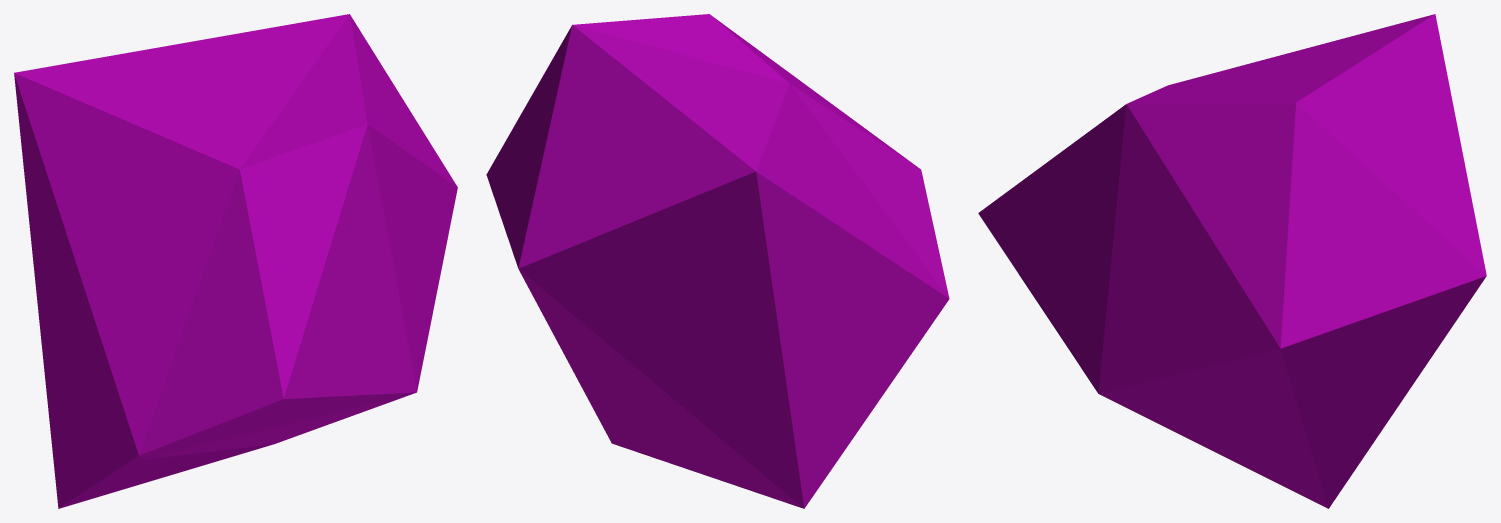
3 renders of one model, left to right at view 1: azimuth 30°, elevation 25°; view 2: azimuth 150°, elevation 25°; view 3: azimuth 270°, elevation 25°, orthographic. The views are drawn at different scales.
Parts seen in each view (by area): view 1: pasted__pSolid8 group25 group24; view 2: pasted__pSolid8 group25 group24; view 3: pasted__pSolid8 group25 group24.
Part boxes in pixels (x1,y1,x2,y2): pasted__pSolid8 group25 group24: [14, 14, 457, 508]; pasted__pSolid8 group25 group24: [486, 14, 949, 508]; pasted__pSolid8 group25 group24: [978, 14, 1486, 508].
Size of the model in its own units: 0.7385 by 0.7629 by 0.778.
Materials: 1 (1 with a texture image).
